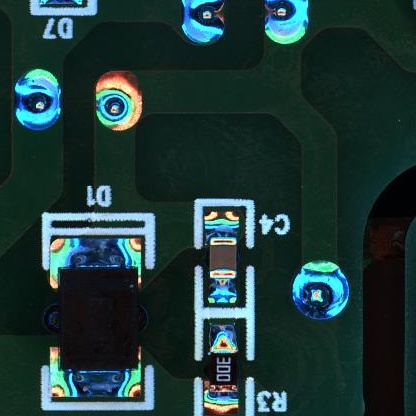spot: (293, 261, 349, 321), (95, 70, 144, 131), (14, 68, 60, 129), (262, 1, 311, 45), (181, 1, 224, 44)
